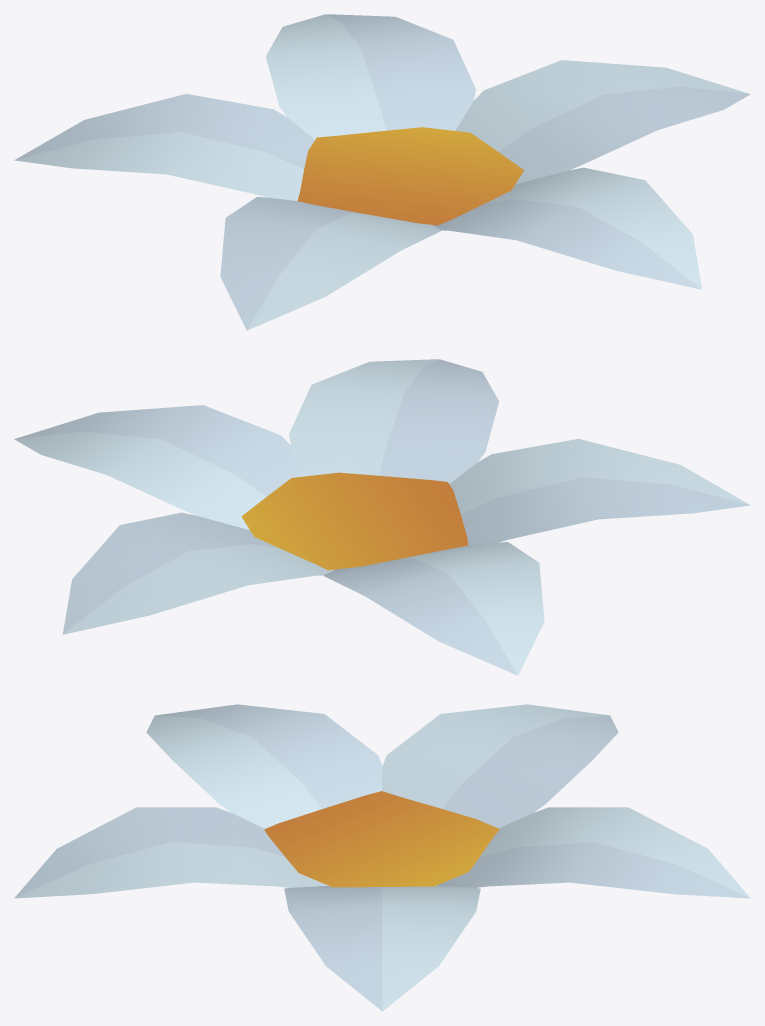
File: Flower 1.fbx
3 views of the same model, one above another, from view 1: azimuth 30°, elevation 25°; view 2: azimuth 150°, elevation 25°; view 3: azimuth 270°, elevation 25° (orthographic). The views are drawn at different scales.
Visible parts, largest first — view 1: Plane.011; view 2: Plane.011; view 3: Plane.011.
Boxes of the visible parts, x1=… form: Plane.011: x1=14, y1=14, x2=750, y2=330; Plane.011: x1=14, y1=359, x2=750, y2=675; Plane.011: x1=14, y1=704, x2=750, y2=1011.
Size of the model in its own units: 97.28 by 7.56 by 102.
